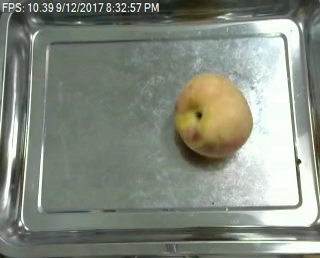Peach: (174, 72, 253, 156)
